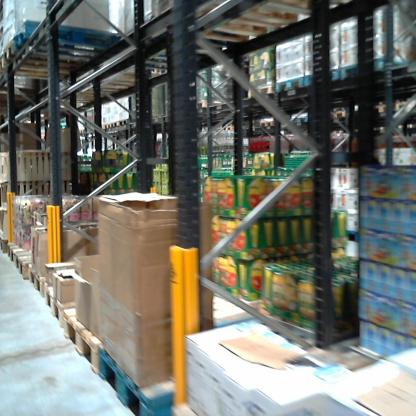pallet: (97, 335, 195, 415), (13, 21, 149, 67), (65, 305, 115, 386), (43, 284, 115, 334), (0, 35, 80, 68), (337, 50, 398, 92), (27, 259, 76, 296), (13, 247, 56, 283), (7, 239, 43, 265), (304, 72, 348, 91), (206, 91, 239, 115), (273, 76, 307, 98), (249, 82, 274, 104), (323, 103, 352, 121), (288, 113, 315, 130), (367, 102, 393, 113), (257, 115, 276, 128), (1, 235, 9, 254), (103, 123, 109, 137)
